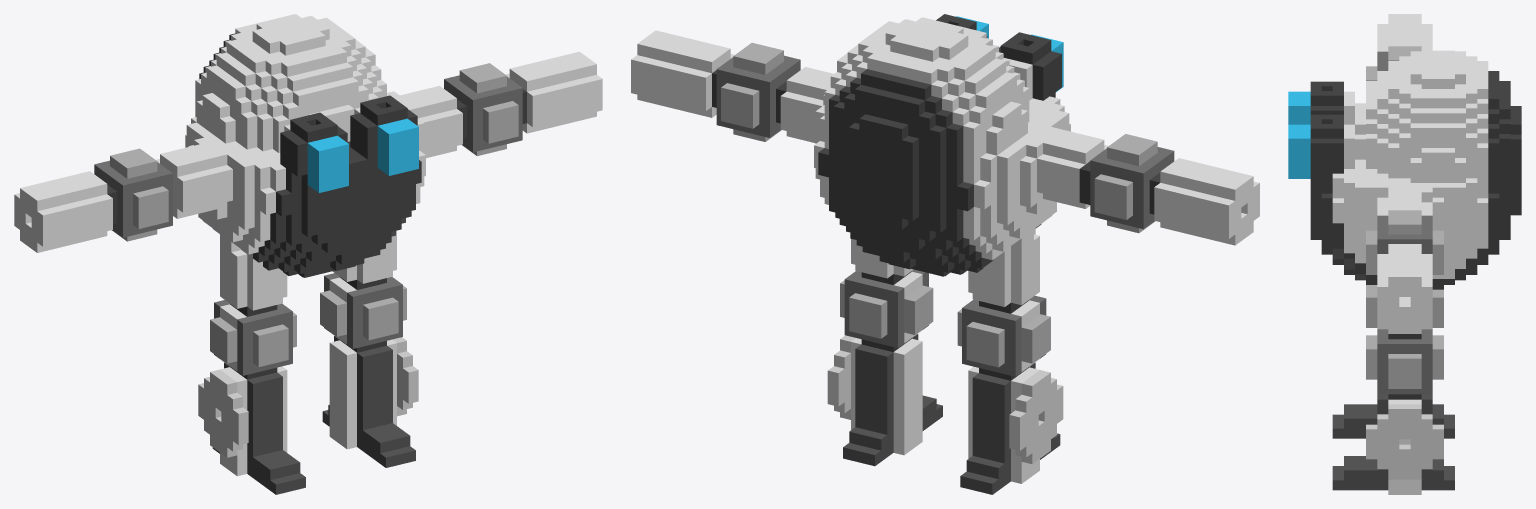
Rendered from OG - Colour.obj.
The picture shows the model from 3 angles, left to right: view 1: azimuth 30°, elevation 25°; view 2: azimuth 150°, elevation 25°; view 3: azimuth 270°, elevation 25°; orthographic projection. The views are drawn at different scales.
Parts seen in each view (by area): view 1: OG - Colour; view 2: OG - Colour; view 3: OG - Colour.
Part boxes in pixels (left/top/right/bottom): OG - Colour: left=14, top=14, right=602, bottom=494; OG - Colour: left=631, top=14, right=1259, bottom=494; OG - Colour: left=1288, top=14, right=1521, bottom=494.
Size of the model in its own units: 56 by 39 by 21.
1 material, 1 textured.
